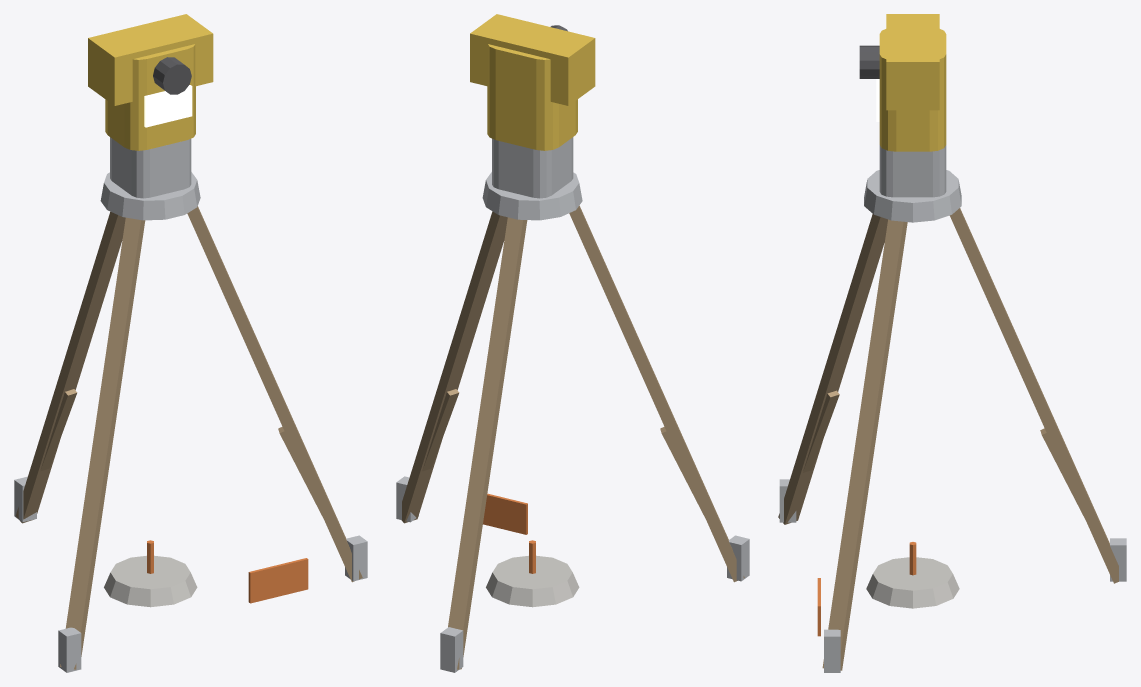
File: underground-mine-and-shaft-works-survey-station-6e7dd213.glb
3 renders of one model, left to right at view 1: azimuth 30°, elevation 25°; view 2: azimuth 150°, elevation 25°; view 3: azimuth 270°, elevation 25°, orthographic.
Visible parts, largest first — view 1: survey-station; view 2: survey-station; view 3: survey-station.
Boxes of the visible parts, x1=… form: survey-station: x1=14, y1=14, x2=367, y2=672; survey-station: x1=396, y1=14, x2=749, y2=672; survey-station: x1=778, y1=14, x2=1126, y2=672.
Bounding box in the file's own units: 1.12 × 1.83 × 1.04.
